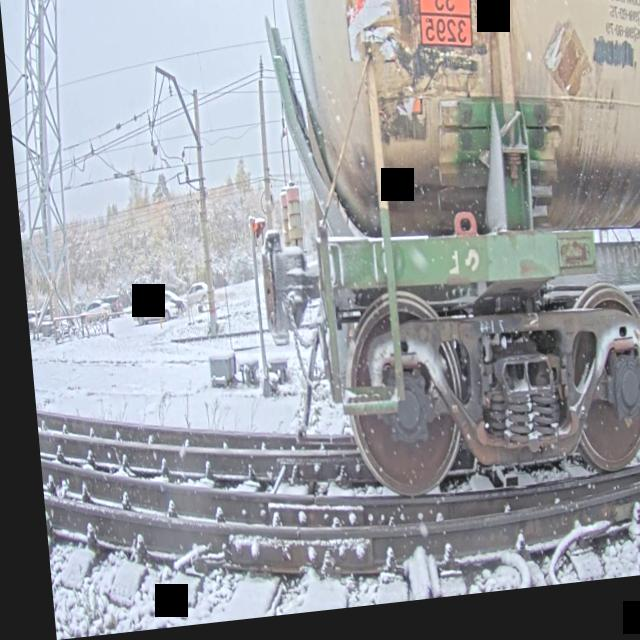tank: (222, 0, 640, 543)
